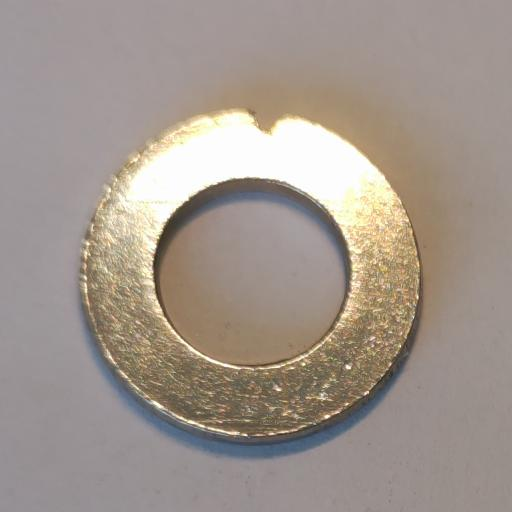burr: (248, 108, 290, 138)
